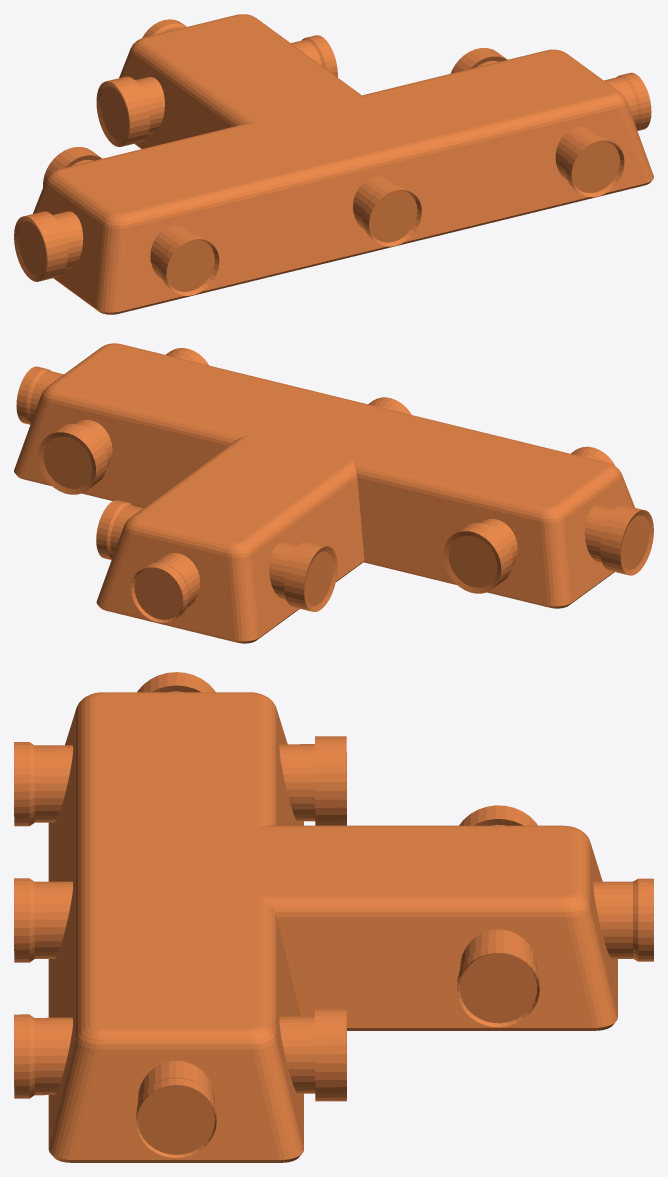
File: Num16.fbx
The picture shows the model from 3 angles, top to bottom: view 1: azimuth 30°, elevation 25°; view 2: azimuth 150°, elevation 25°; view 3: azimuth 270°, elevation 25°; orthographic projection. The views are drawn at different scales.
Visible parts, largest first — view 1: Cube.003; view 2: Cube.003; view 3: Cube.003.
Part boxes in pixels (box(x1,y1,x2,y2)): Cube.003: box(14, 14, 653, 314); Cube.003: box(14, 343, 653, 643); Cube.003: box(14, 672, 653, 1162).
Size of the model in its own units: 7.48 by 1 by 4.97.
